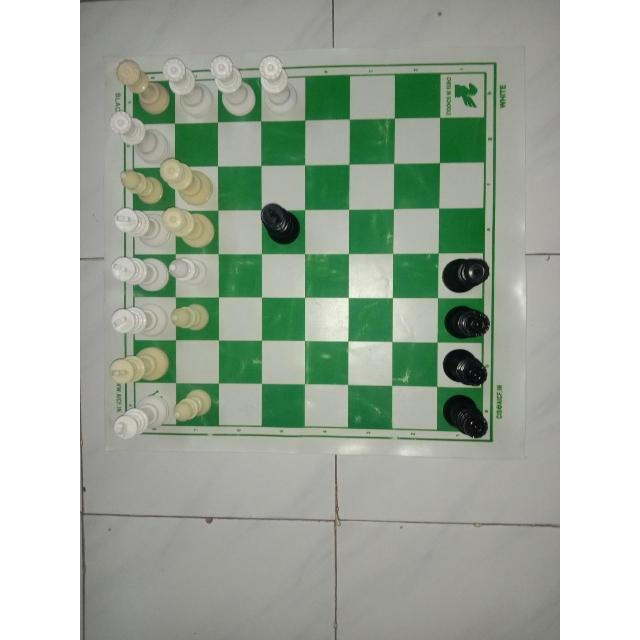black-king: (260, 202, 302, 248)
black-queen: (440, 392, 488, 438), (439, 254, 489, 296), (439, 346, 489, 387), (441, 299, 489, 338)
white-bishop: (116, 165, 168, 206), (173, 388, 215, 428), (166, 252, 208, 290), (169, 301, 210, 335)
white-king: (111, 204, 171, 251), (112, 393, 170, 440), (107, 252, 170, 292), (107, 345, 168, 384), (109, 305, 169, 339)
white-queen: (107, 111, 168, 165), (113, 58, 169, 116), (161, 57, 213, 119), (207, 54, 256, 116), (157, 157, 215, 207), (257, 55, 299, 115), (159, 204, 215, 248)
